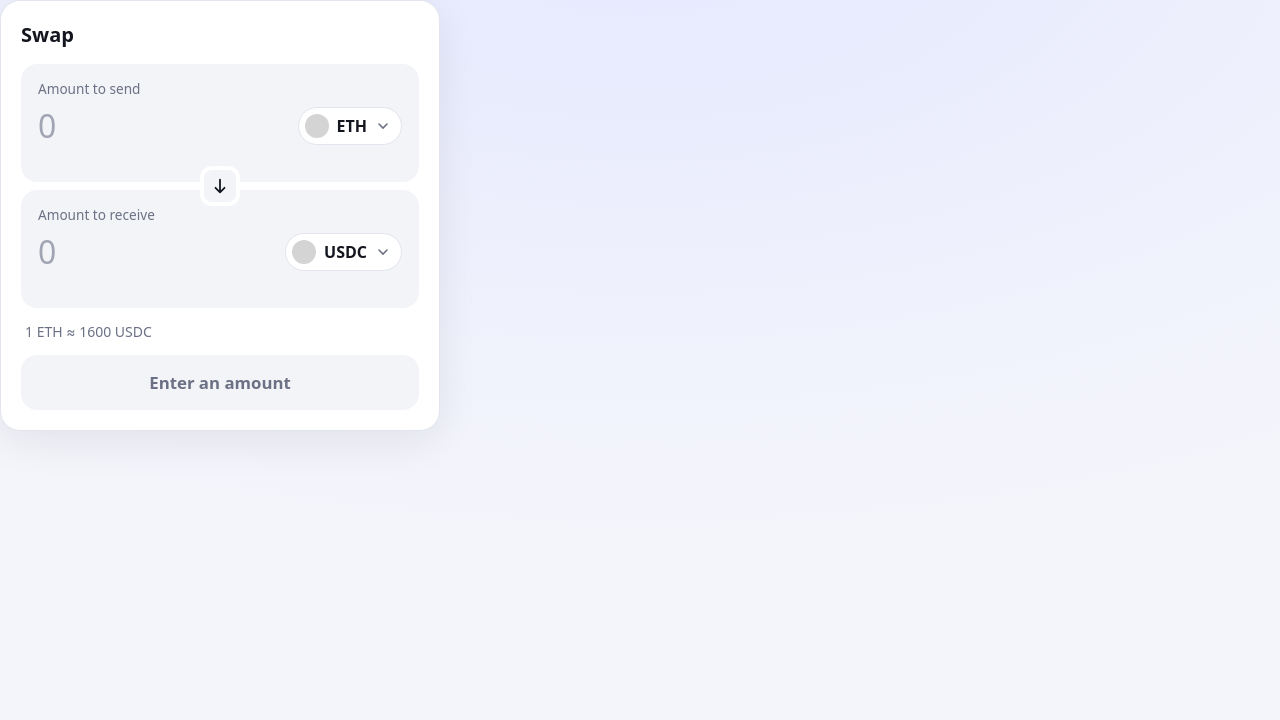
Test: SwapForm › selecting the opposite side's token flips instead of duplicating it
The image size is (1280, 720).
Click the button with aria-label "Token to send: ETH" at (350, 126), box [298,106,402,144]
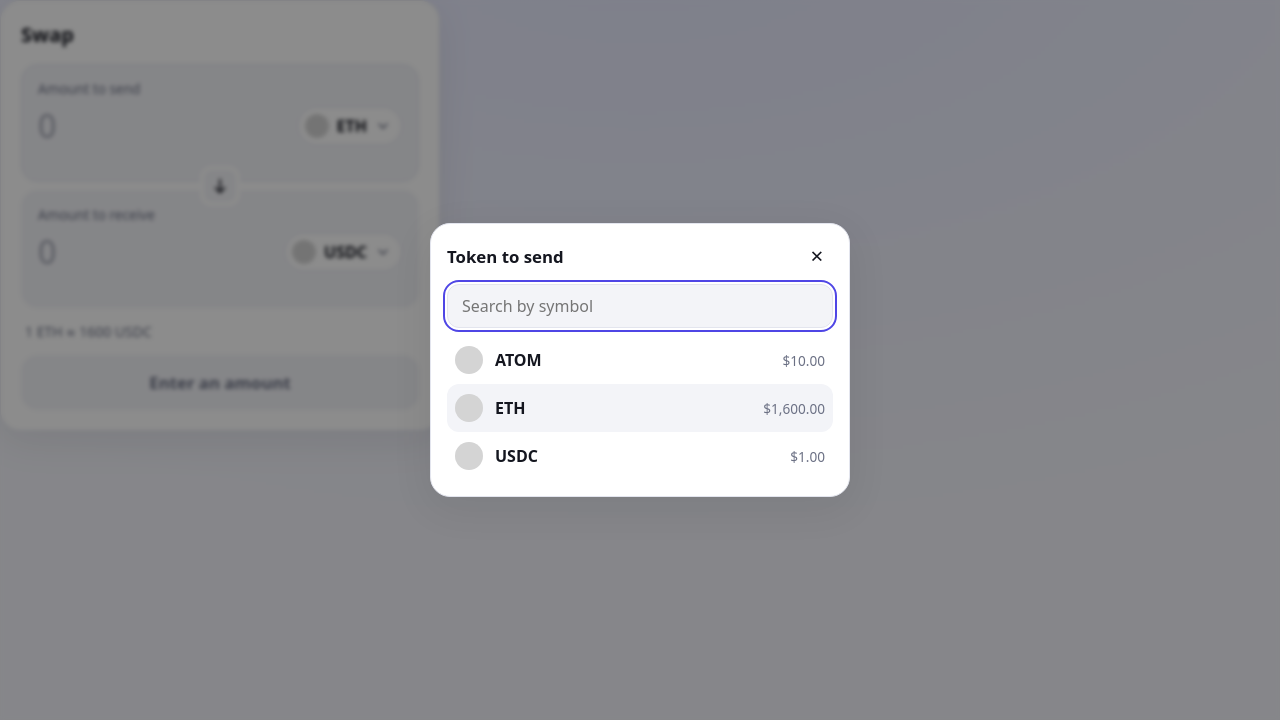
Click the button "USDC $1.00" at (516, 456), box [447,432,833,480]
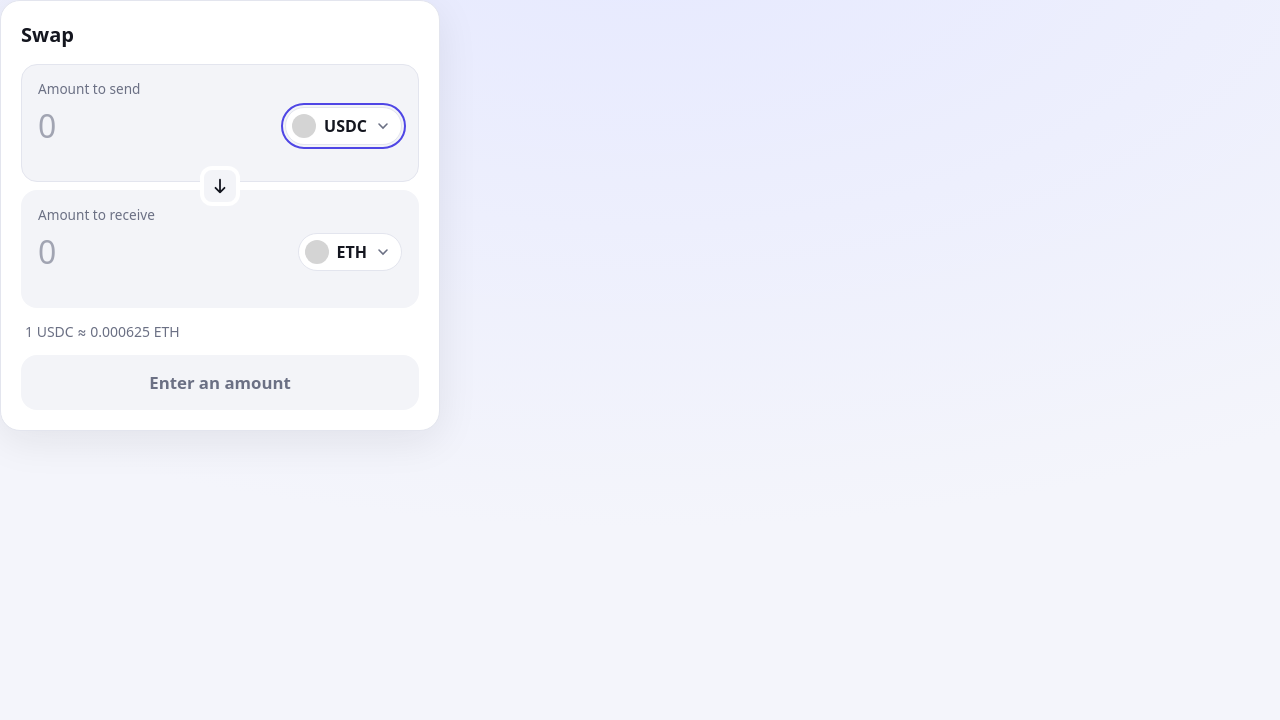
Check: the button with aria-label "Token to send: USDC" is shown, box [285,106,402,144]
Check: the button with aria-label "Token to receive: ETH" is shown, box [298,232,402,270]
